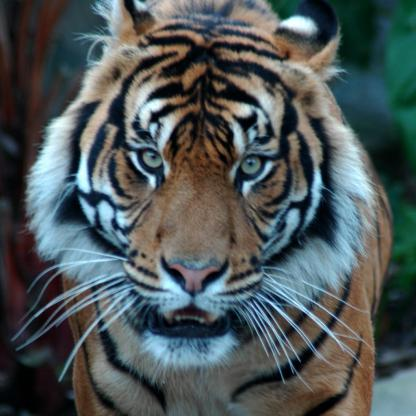tiger: (23, 21, 347, 416)
